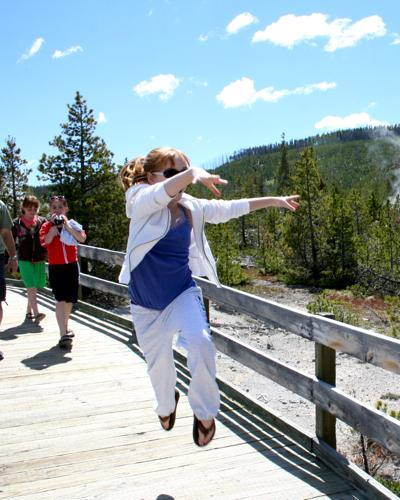person: (117, 146, 298, 447)
